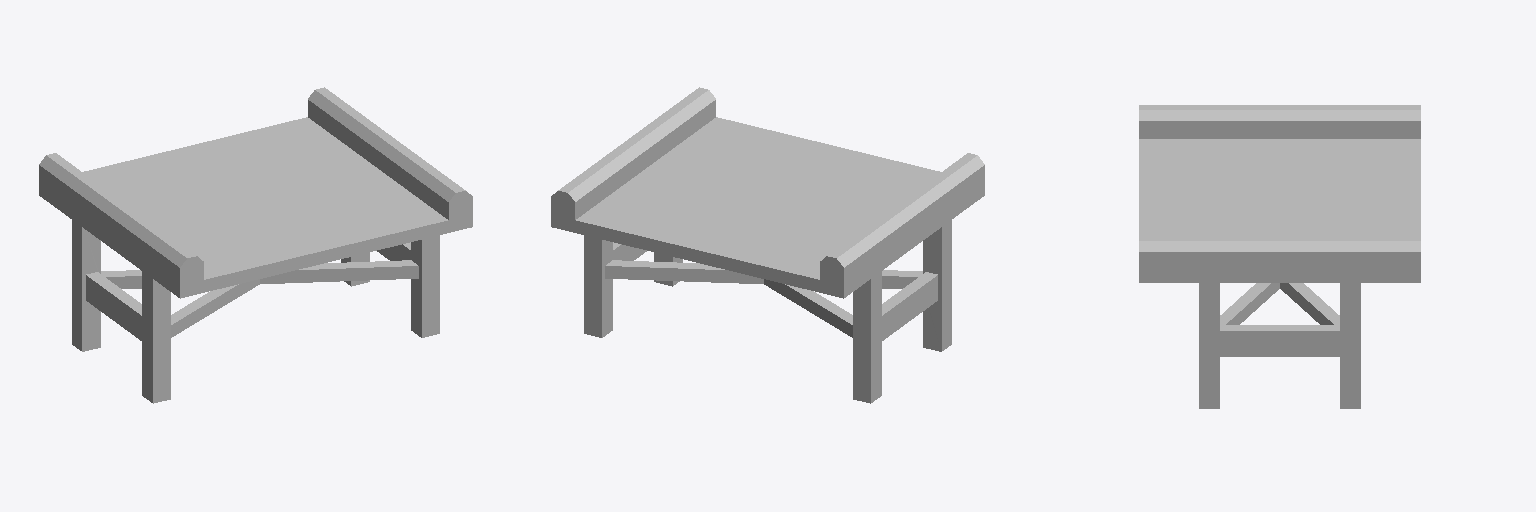
The model's file is ramp3.obj.
The picture shows the model from 3 angles: view 1: azimuth 30°, elevation 25°; view 2: azimuth 150°, elevation 25°; view 3: azimuth 270°, elevation 25°; orthographic projection.
Visible parts, largest first — view 1: object1, object4, object3, object2; view 2: object1, object4, object3, object2; view 3: object1, object2, object4, object3.
Part boxes in pixels (bbox=[...]): object1: bbox=[83, 117, 448, 292]; object4: bbox=[72, 220, 439, 403]; object3: bbox=[39, 153, 203, 298]; object2: bbox=[308, 87, 472, 232]; object1: bbox=[575, 117, 940, 292]; object4: bbox=[584, 220, 951, 403]; object3: bbox=[820, 153, 984, 298]; object2: bbox=[551, 87, 715, 232]; object1: bbox=[1139, 139, 1420, 235]; object2: bbox=[1139, 236, 1420, 282]; object4: bbox=[1199, 283, 1360, 408]; object3: bbox=[1139, 105, 1420, 138].
Size of the model in its own units: 1.2 by 0.65 by 1.